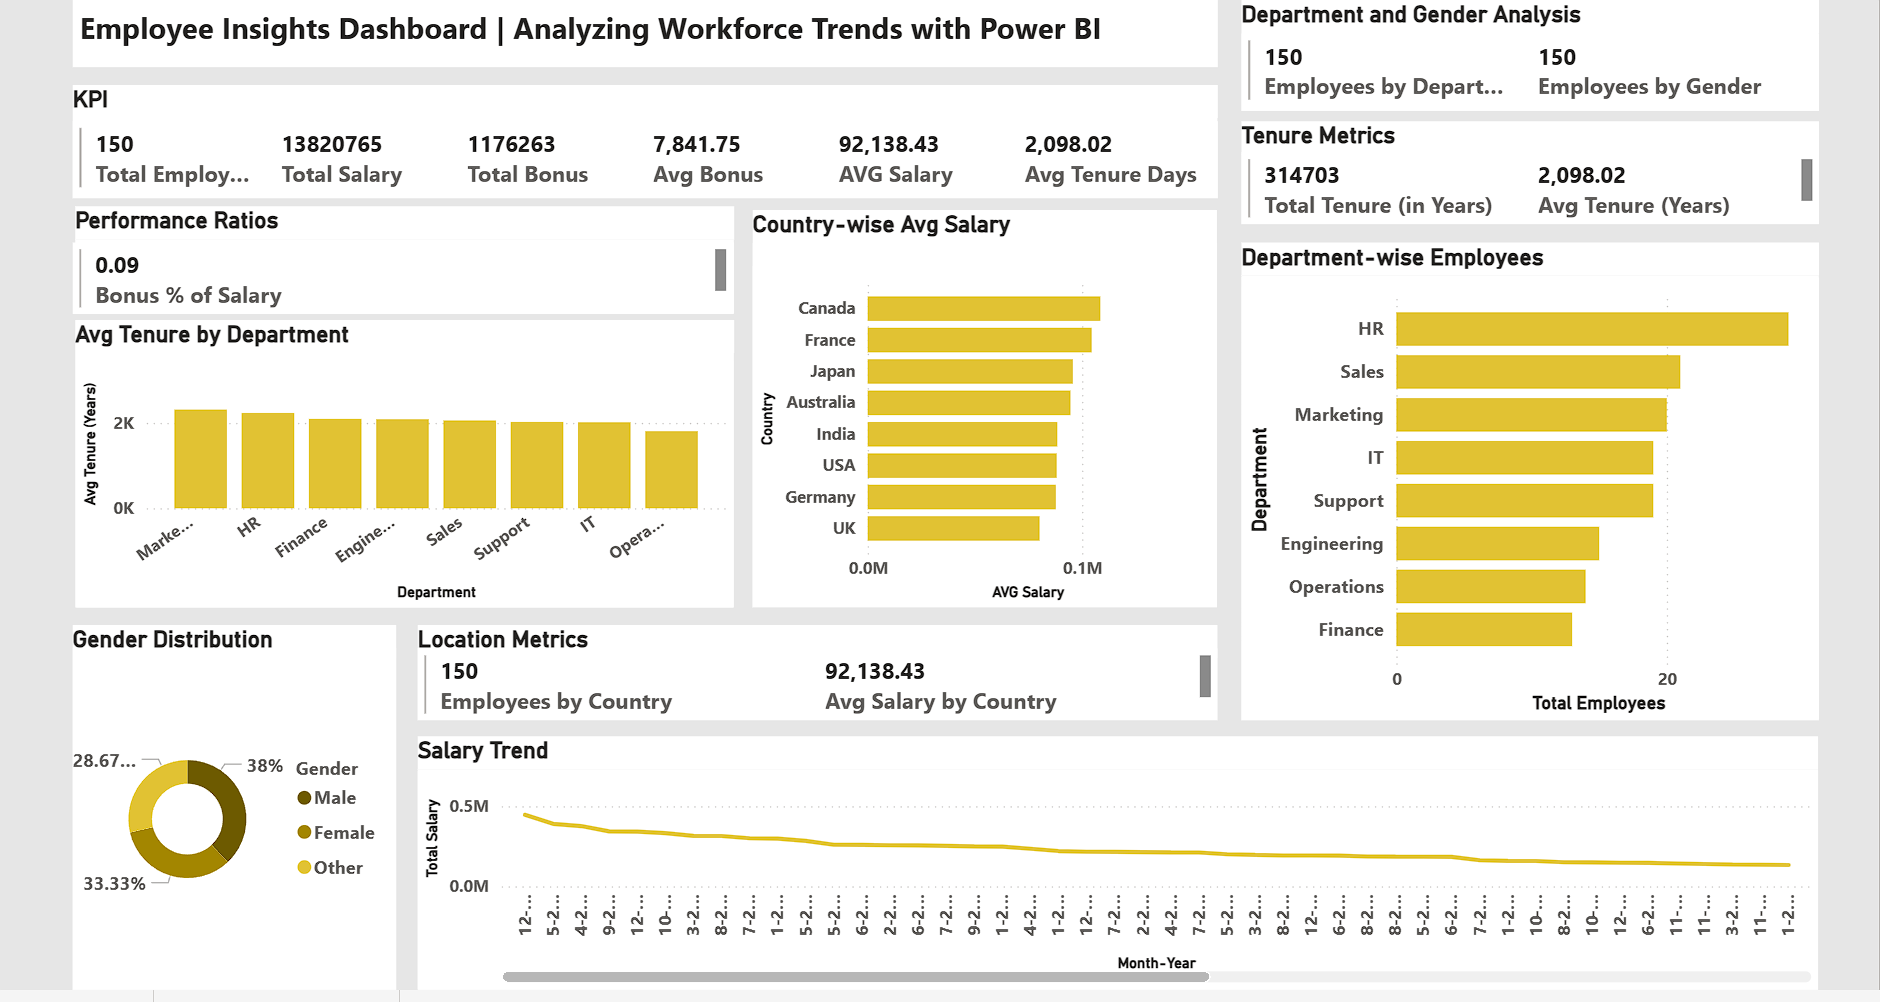

The dashboard page shown, as its layout file describes it:
{"tool":"powerbi","page":{"name":"Employee Insight Dashboard","canvas":[1280,720],"ordinal":0},"visuals":[{"type":"textbox","box":[10.1,0,832.5,49.1],"z":0},{"type":"shape","title":"KPI","box":[10.1,62,832.5,82.2],"z":1000},{"type":"multiRowCard","fields":{"Values":["employee_data(1).Total Employees","employee_data(1).Total Salary","employee_data(1).Total Bonus","employee_data(1).Avg Bonus","employee_data(1).AVG Salary","employee_data(1).Avg Tenure Days"]},"box":[10.1,88,832.5,56.3],"z":2000},{"type":"shape","title":"Department and Gender Analysis","box":[859.9,0,419.8,80.8],"z":3000},{"type":"multiRowCard","fields":{"Values":["employee_data(1).Employees by Department","employee_data(1).Employees by Gender"]},"box":[859.9,24.5,419.8,56.3],"z":4000},{"type":"shape","title":"Performance Ratios","box":[11.5,150,479,77.9],"z":5000},{"type":"shape","title":"Tenure Metrics","box":[859.9,88,419.8,75],"z":6000},{"type":"shape","title":"Location Metrics","box":[261.1,454.5,581.4,69.3],"z":7000},{"type":"multiRowCard","fields":{"Values":["employee_data(1).Bonus % of Salary"]},"box":[10.1,176,480.4,51.9],"z":8000},{"type":"multiRowCard","fields":{"Values":["employee_data(1).Employees by Country","employee_data(1).Avg Salary by Country"]},"box":[261.1,471.8,581.4,51.9],"z":9000},{"type":"shape","title":"Department-wise Employees","box":[859.9,176,419.8,347.7],"z":10000},{"type":"barChart","fields":{"Category":["employee_data(1).Department"],"Y":["employee_data(1).Total Employees"]},"box":[859.9,202,419.8,321.7],"z":11000},{"type":"shape","title":"Gender Distribution","box":[10.1,454.5,235.2,265.5],"z":12000},{"type":"donutChart","fields":{"Category":["employee_data(1).Gender"],"Y":["employee_data(1).Total Employees"]},"box":[10.1,471.8,235.2,248.2],"z":13000},{"type":"shape","title":"Avg Tenure by Department","box":[11.5,232.3,479,209.2],"z":14000},{"type":"columnChart","fields":{"Category":["employee_data(1).Department"],"Y":["employee_data(1).Avg Tenure (Years)"]},"box":[13,262.6,477.6,178.9],"z":15000},{"type":"multiRowCard","fields":{"Values":["employee_data(1).Total Tenure (in Years)","employee_data(1).Avg Tenure (Years)"]},"box":[859.9,111.1,419.8,51.9],"z":16000},{"type":"shape","title":"Salary Trend","box":[261.1,535.3,1018.6,184.7],"z":17000},{"type":"lineChart","fields":{"Category":["employee_data(1).Month-Year"],"Y":["employee_data(1).Total Salary"]},"box":[261.1,561.2,1018.6,158.7],"z":18000},{"type":"shape","title":"Country-wise Avg Salary","box":[505,152.9,337.6,288.6],"z":19000},{"type":"barChart","fields":{"Category":["employee_data(1).Country"],"Y":["employee_data(1).AVG Salary"]},"box":[505,193.3,337.6,248.2],"z":20000}]}

Visuals, with their boxes on the page's 1280x720 design canvas (x1, y1, x2, y2). These are canvas units, not pixel positions in the 1880x1002 screenshot, which may show the page scaled, cropped or inside an application window:
textbox: (10, 0, 843, 49)
"KPI" shape: (10, 62, 843, 144)
multiRowCard - employee_data(1).Total Employees x employee_data(1).Total Salary: (10, 88, 843, 144)
"Department and Gender Analysis" shape: (860, 0, 1280, 81)
multiRowCard - employee_data(1).Employees by Department x employee_data(1).Employees by Gender: (860, 24, 1280, 81)
"Performance Ratios" shape: (12, 150, 490, 228)
"Tenure Metrics" shape: (860, 88, 1280, 163)
"Location Metrics" shape: (261, 454, 842, 524)
multiRowCard - employee_data(1).Bonus % of Salary: (10, 176, 490, 228)
multiRowCard - employee_data(1).Employees by Country x employee_data(1).Avg Salary by Country: (261, 472, 842, 524)
"Department-wise Employees" shape: (860, 176, 1280, 524)
barChart - employee_data(1).Department x employee_data(1).Total Employees: (860, 202, 1280, 524)
"Gender Distribution" shape: (10, 454, 245, 720)
donutChart - employee_data(1).Gender x employee_data(1).Total Employees: (10, 472, 245, 720)
"Avg Tenure by Department" shape: (12, 232, 490, 442)
columnChart - employee_data(1).Department x employee_data(1).Avg Tenure (Years): (13, 263, 491, 442)
multiRowCard - employee_data(1).Total Tenure (in Years) x employee_data(1).Avg Tenure (Years): (860, 111, 1280, 163)
"Salary Trend" shape: (261, 535, 1280, 720)
lineChart - employee_data(1).Month-Year x employee_data(1).Total Salary: (261, 561, 1280, 720)
"Country-wise Avg Salary" shape: (505, 153, 843, 442)
barChart - employee_data(1).Country x employee_data(1).AVG Salary: (505, 193, 843, 442)
